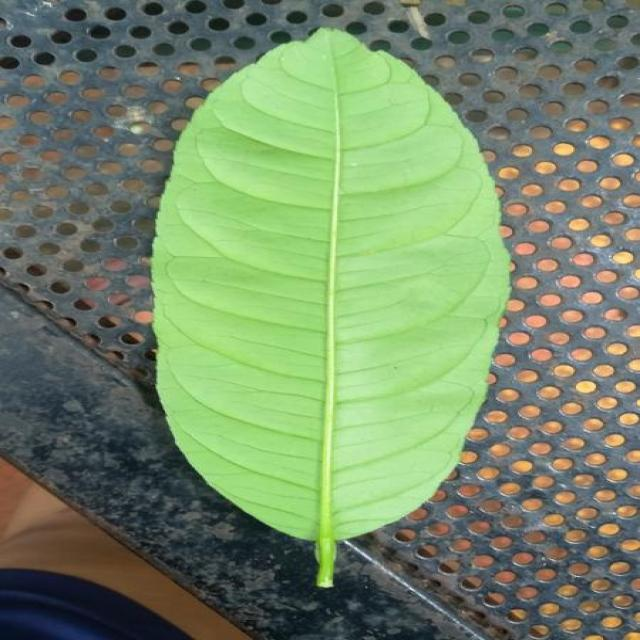badipala: (152, 29, 510, 587), (152, 29, 508, 587), (2, 291, 478, 640)
